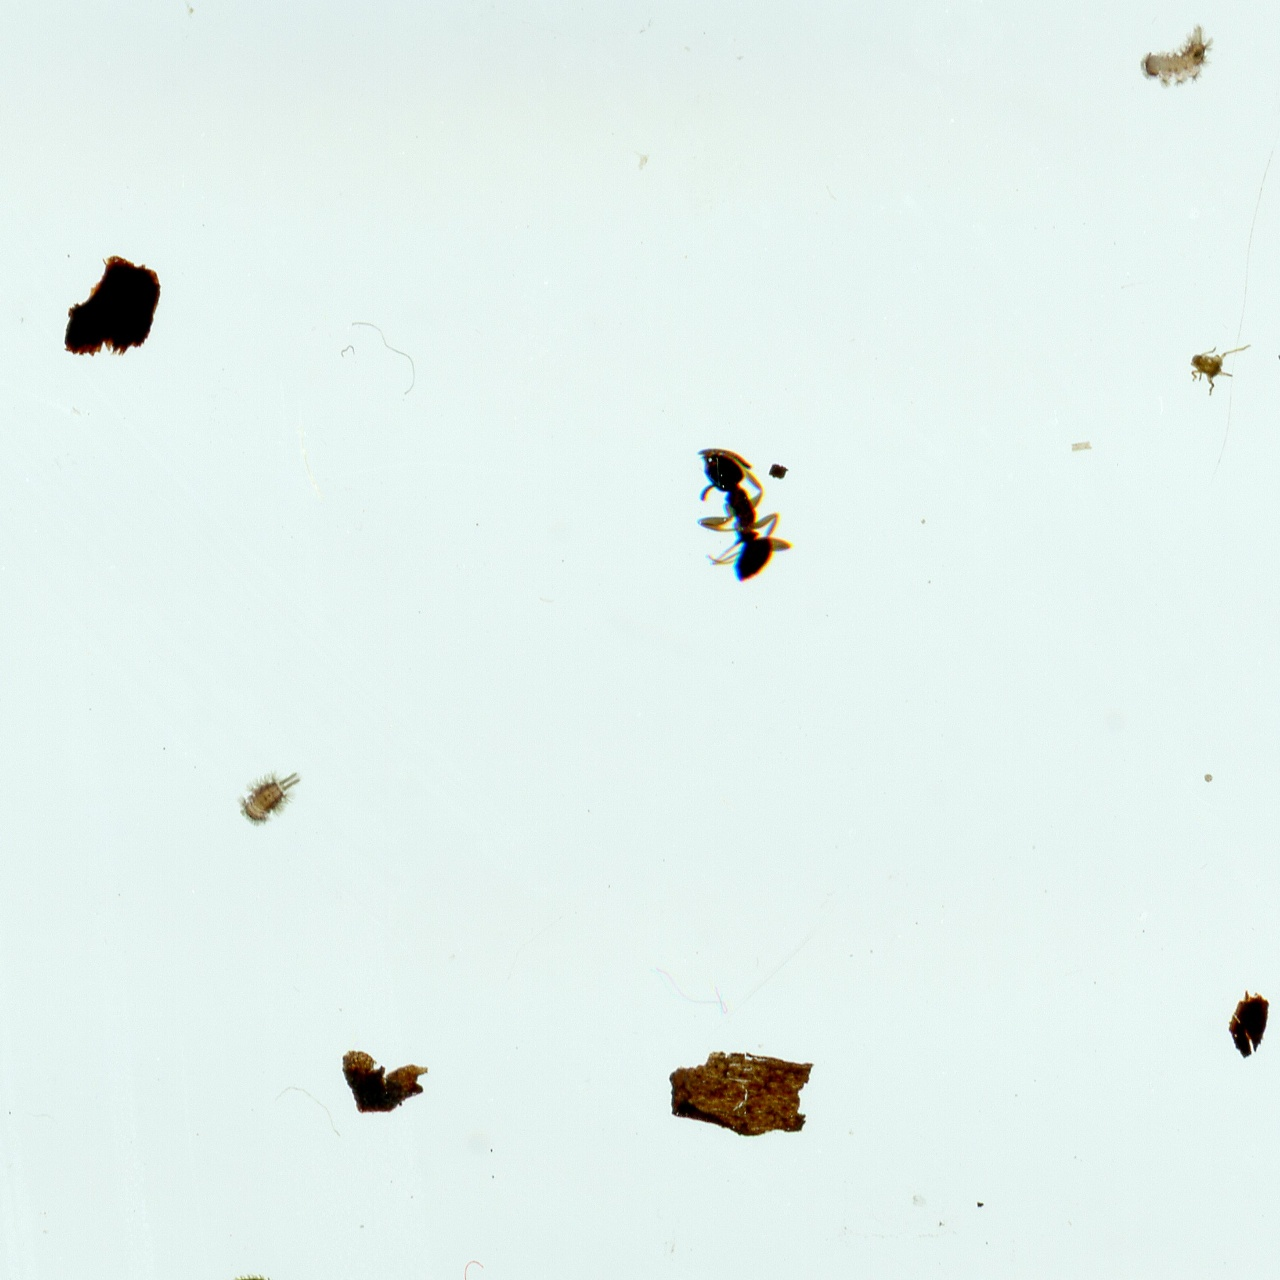arthropod: (692, 444, 799, 591), (115, 1244, 314, 1280), (1136, 18, 1221, 89), (233, 765, 305, 835), (1186, 342, 1254, 400)
